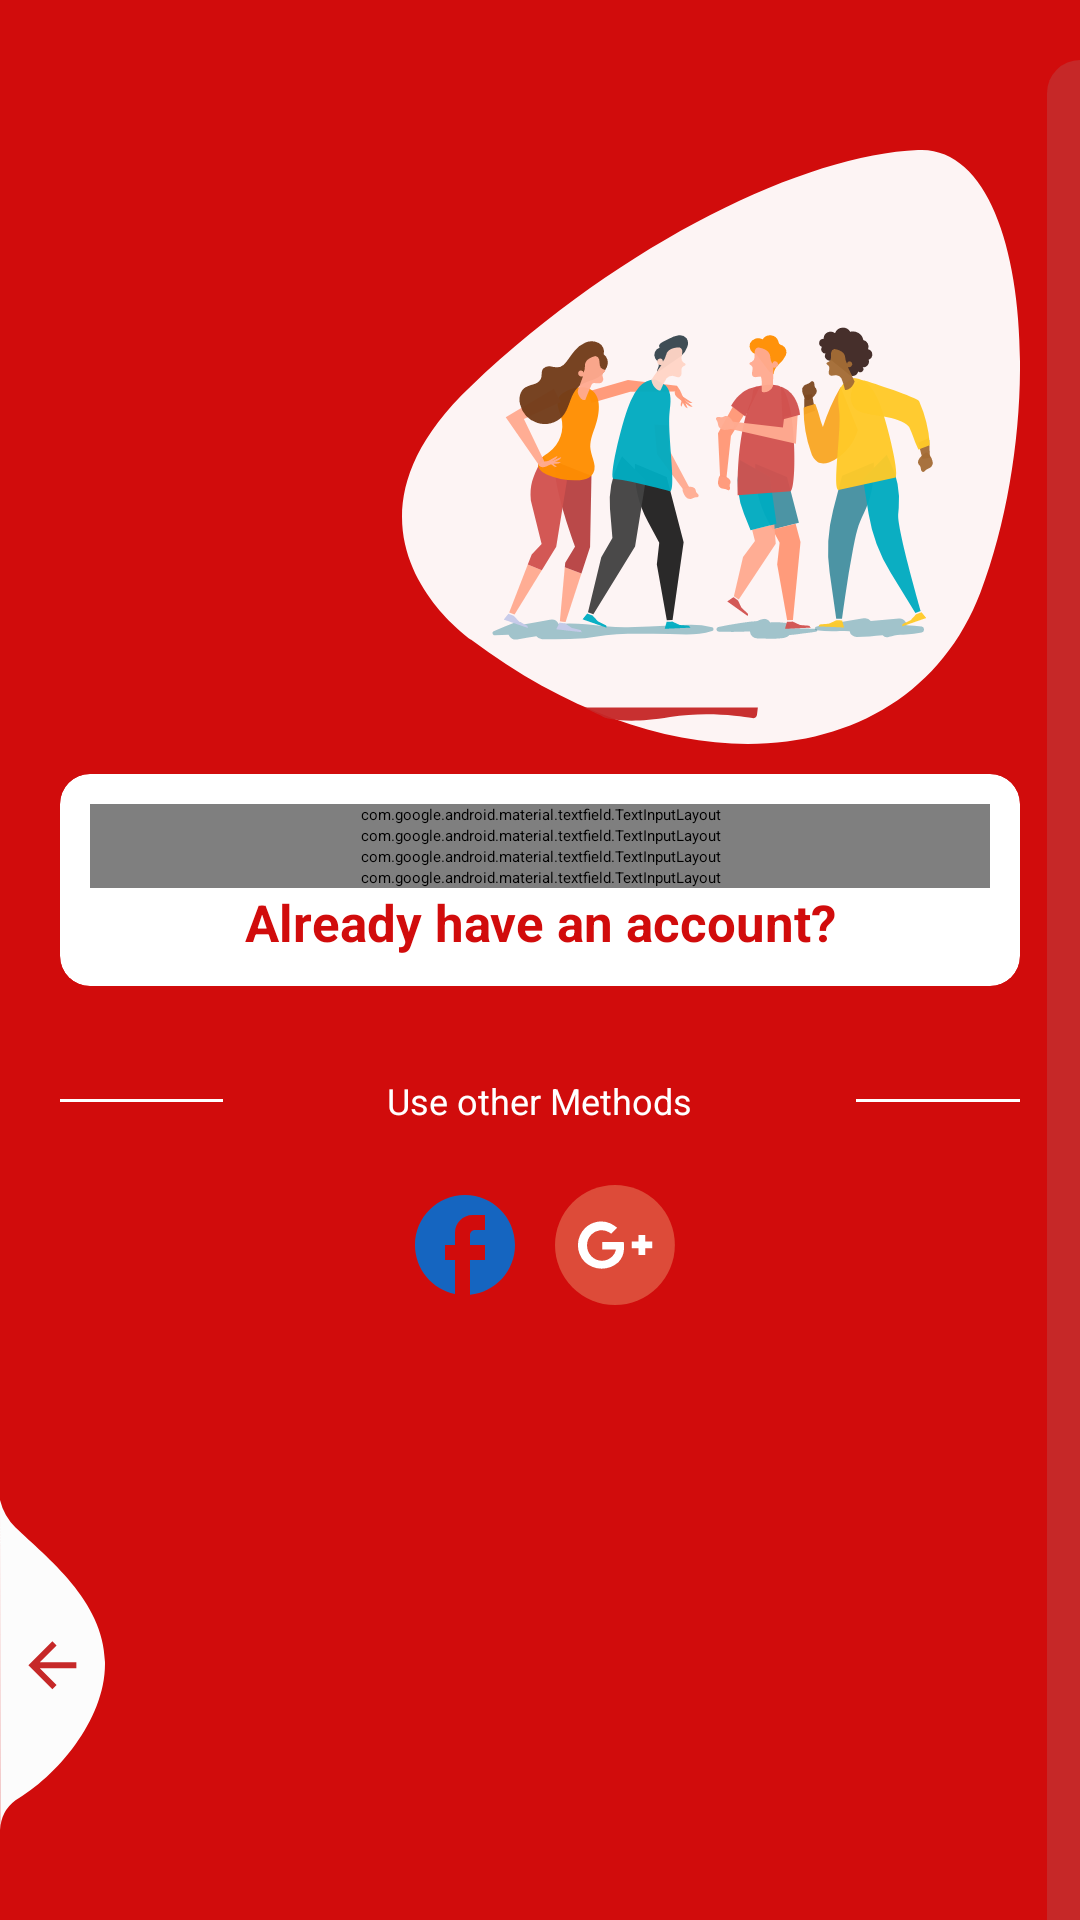

Screen size 1080*1920. Icon name, then its center in pixels as (x=x, y=y):
back: (x=52, y=1664)
